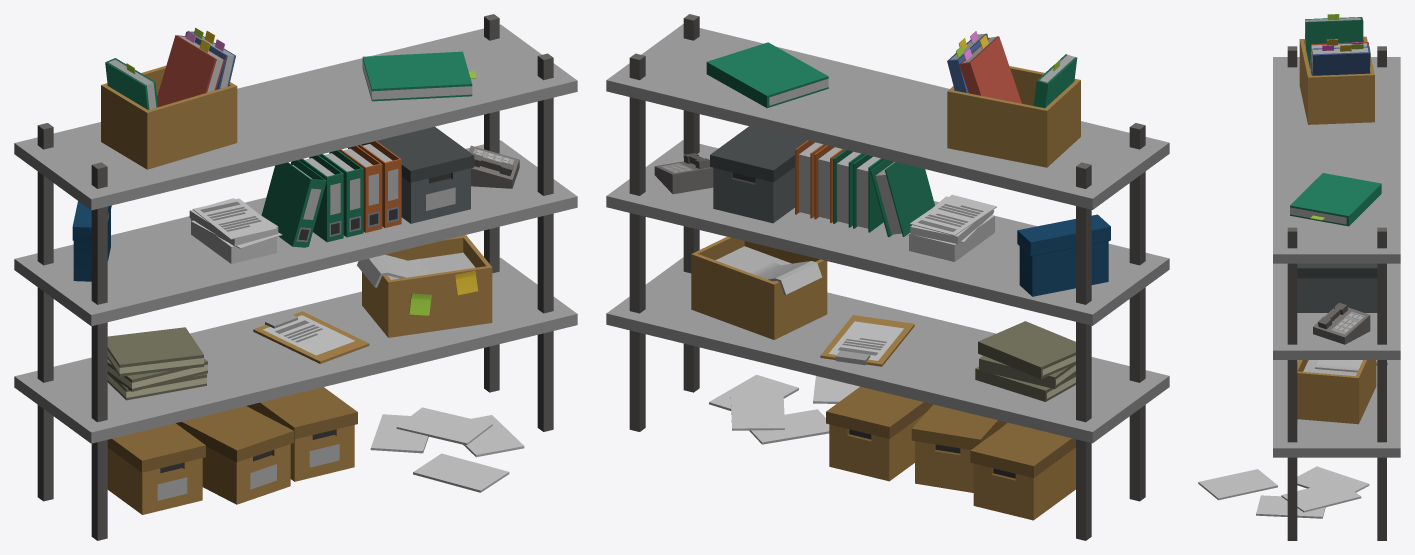
Rendered from SO_Shelf_01.fbx.
3 renders of one model, left to right at view 1: azimuth 30°, elevation 25°; view 2: azimuth 150°, elevation 25°; view 3: azimuth 270°, elevation 25°, orthographic. The views are drawn at different scales.
Parts seen in each view (by area): view 1: SO_Shelf_01; view 2: SO_Shelf_01; view 3: SO_Shelf_01.
Part boxes in pixels (x1,y1,x2,y2): SO_Shelf_01: (14,14,577,540); SO_Shelf_01: (606,14,1169,540); SO_Shelf_01: (1198,14,1400,540).
Size of the model in its own units: 5.07 by 4.44 by 2.19.
